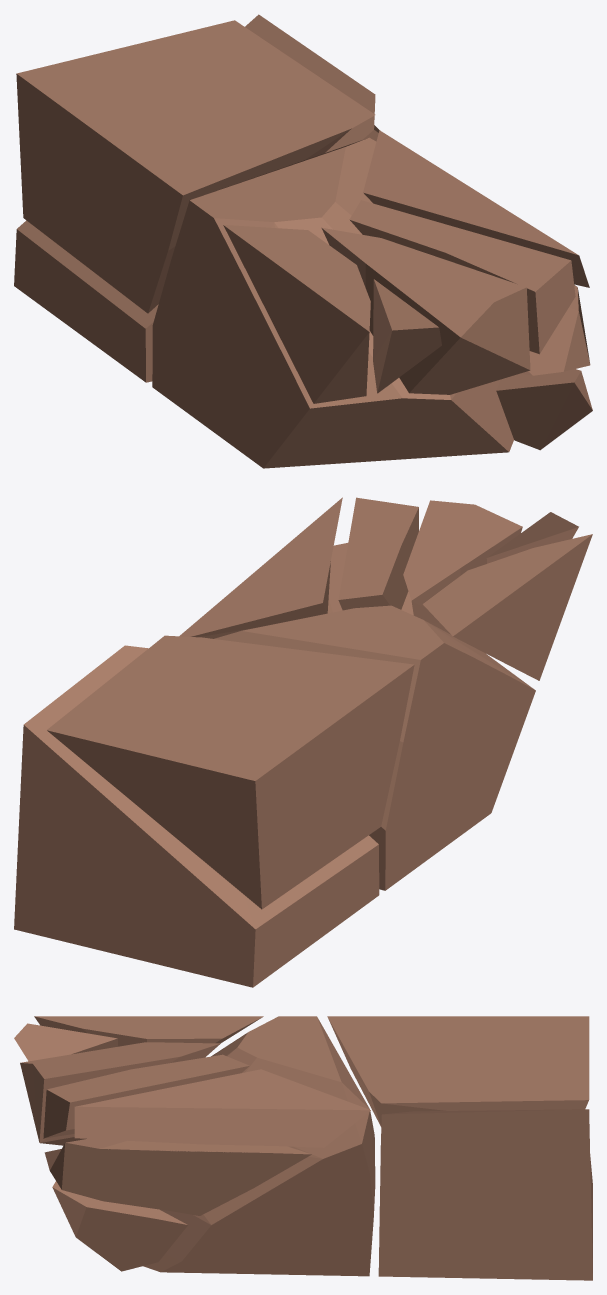
The model's file is holzteil_kaputt.glb.
3 renders of one model, top to bottom at view 1: azimuth 30°, elevation 25°; view 2: azimuth 150°, elevation 25°; view 3: azimuth 270°, elevation 25°, orthographic. The views are drawn at different scales.
Visible parts, largest first — view 1: Cube_cell.031_cell.003, Cube_cell.031_cell.008, Cube_cell.031_cell.002, Cube_cell.031_cell.009, Cube_cell.031_cell.006, Cube_cell.031_cell, Cube_cell.031_cell.004, Cube_cell.031_cell.007, Cube_cell.031_cell.005, Cube_cell.031_cell.001; view 2: Cube_cell.031_cell.003, Cube_cell.031_cell.006, Cube_cell.031_cell.008, Cube_cell.031_cell.009, Cube_cell.031_cell.004, Cube_cell.031_cell.002, Cube_cell.031_cell, Cube_cell.031_cell.005, Cube_cell.031_cell.001; view 3: Cube_cell.031_cell.006, Cube_cell.031_cell.008, Cube_cell.031_cell.003, Cube_cell.031_cell.004, Cube_cell.031_cell.001, Cube_cell.031_cell.007, Cube_cell.031_cell.002, Cube_cell.031_cell, Cube_cell.031_cell.009, Cube_cell.031_cell.005.
Part boxes in pixels (x1,y1,x2,y2): Cube_cell.031_cell.003: [16, 20, 375, 313]; Cube_cell.031_cell.008: [152, 137, 513, 468]; Cube_cell.031_cell.002: [321, 227, 530, 394]; Cube_cell.031_cell.009: [223, 225, 370, 403]; Cube_cell.031_cell.006: [14, 14, 379, 382]; Cube_cell.031_cell: [349, 200, 575, 354]; Cube_cell.031_cell.004: [363, 130, 589, 287]; Cube_cell.031_cell.007: [496, 369, 592, 450]; Cube_cell.031_cell.005: [373, 279, 441, 393]; Cube_cell.031_cell.001: [520, 285, 590, 375]; Cube_cell.031_cell.003: [47, 635, 414, 909]; Cube_cell.031_cell.006: [14, 645, 379, 987]; Cube_cell.031_cell.008: [214, 605, 535, 890]; Cube_cell.031_cell.009: [423, 534, 592, 680]; Cube_cell.031_cell.004: [179, 497, 342, 638]; Cube_cell.031_cell.002: [403, 500, 522, 634]; Cube_cell.031_cell: [338, 497, 418, 610]; Cube_cell.031_cell.005: [486, 512, 578, 563]; Cube_cell.031_cell.001: [327, 543, 413, 615]; Cube_cell.031_cell.006: [378, 1109, 592, 1280]; Cube_cell.031_cell.008: [143, 1016, 375, 1276]; Cube_cell.031_cell.003: [327, 1016, 589, 1126]; Cube_cell.031_cell.004: [74, 1069, 370, 1147]; Cube_cell.031_cell.001: [44, 1139, 311, 1215]; Cube_cell.031_cell.007: [52, 1181, 187, 1271]; Cube_cell.031_cell.002: [20, 1042, 220, 1145]; Cube_cell.031_cell: [43, 1054, 249, 1138]; Cube_cell.031_cell.009: [34, 1016, 263, 1046]; Cube_cell.031_cell.005: [14, 1023, 117, 1061].
Bounding box in the file's own units: 0.0408 × 0.0335 × 0.1042.
